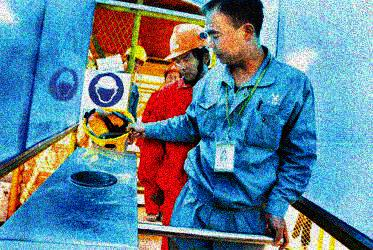helmet: (165, 22, 210, 81), (121, 45, 146, 75), (163, 62, 182, 86)
